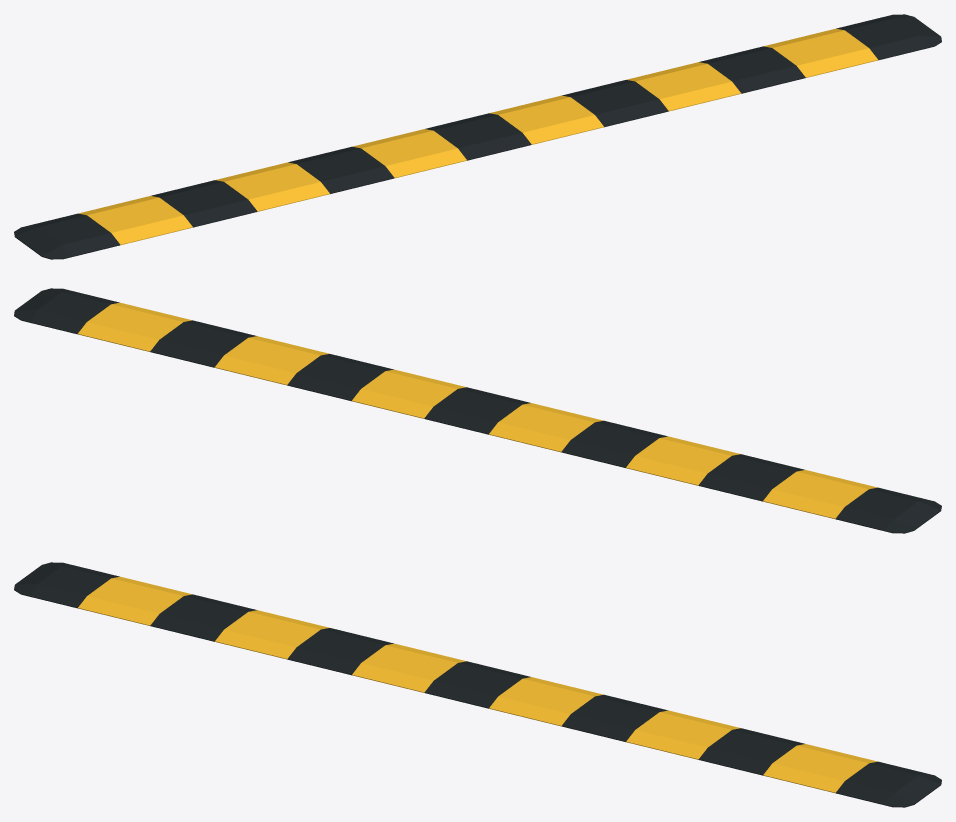
Rendered from SM_FloorProps_06.fbx.
3 renders of one model, top to bottom at view 1: azimuth 30°, elevation 25°; view 2: azimuth 150°, elevation 25°; view 3: azimuth 330°, elevation 25°, orthographic.
Parts seen in each view (by area): view 1: SM_FloorProps_06; view 2: SM_FloorProps_06; view 3: SM_FloorProps_06.
Boxes of the visible parts, x1=… form: SM_FloorProps_06: x1=14, y1=14, x2=941, y2=259; SM_FloorProps_06: x1=14, y1=288, x2=941, y2=533; SM_FloorProps_06: x1=14, y1=562, x2=941, y2=807.
Bounding box in the file's own units: 4.99 × 0.0299 × 0.4088.
